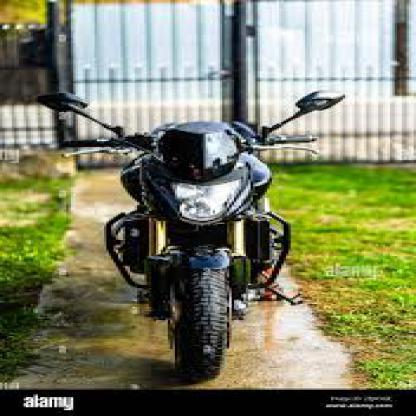Motorcycle: (35, 78, 348, 387)
